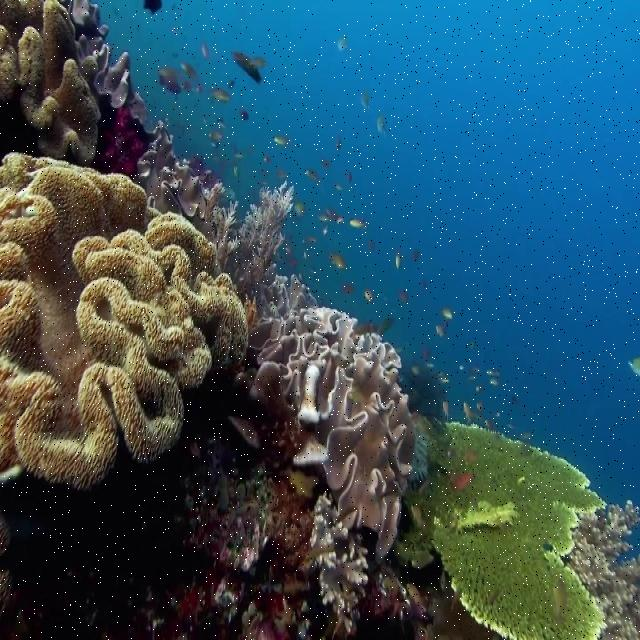fish: (363, 254, 400, 300), (315, 207, 367, 235), (231, 52, 268, 84), (411, 362, 451, 384), (158, 66, 189, 93), (179, 62, 198, 79), (143, 0, 162, 15), (211, 88, 230, 103), (335, 35, 351, 52), (328, 254, 346, 269), (209, 128, 225, 144), (377, 114, 386, 138), (486, 370, 500, 385), (301, 234, 318, 246), (200, 40, 210, 60), (360, 87, 369, 109), (306, 169, 320, 182), (463, 402, 472, 422), (367, 236, 378, 252), (440, 308, 453, 320), (239, 107, 250, 121), (232, 165, 240, 183), (399, 289, 409, 303), (272, 137, 287, 146), (319, 158, 331, 169), (436, 325, 445, 339), (216, 117, 226, 129), (343, 281, 352, 293), (412, 247, 419, 261), (335, 138, 342, 151), (262, 155, 272, 164), (335, 183, 344, 192), (347, 169, 353, 182), (228, 80, 236, 89)
reefs: (0, 0, 639, 639)
